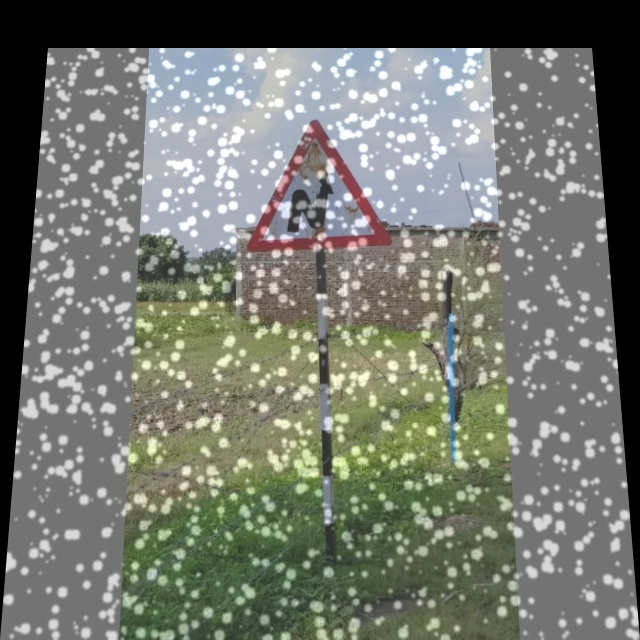Right_Reverse_Bend: (248, 120, 386, 248)
